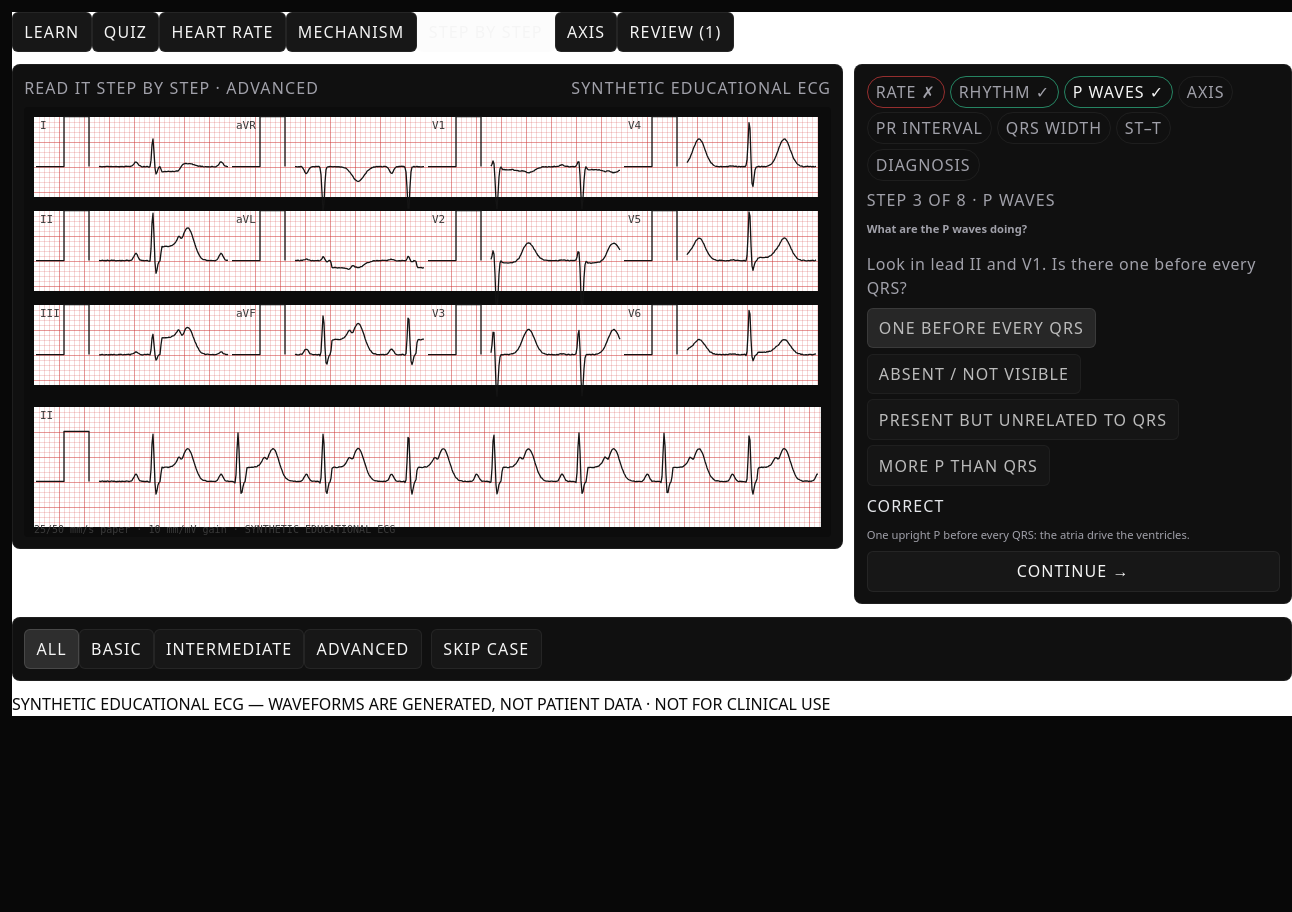
ECG Lab interface › step by step mode walks through the findings before the diagnosis
This screenshot has width=1292, height=912.
Earlier steps of the test are not shown.
Later steps or results of the test are not shown.
Expected: the text "CORRECT" is shown, x1=867 y1=495 x2=945 y2=517
Click the button "CONTINUE →". click: click(1073, 571)
box: x1=867 y1=551 x2=1280 y2=592
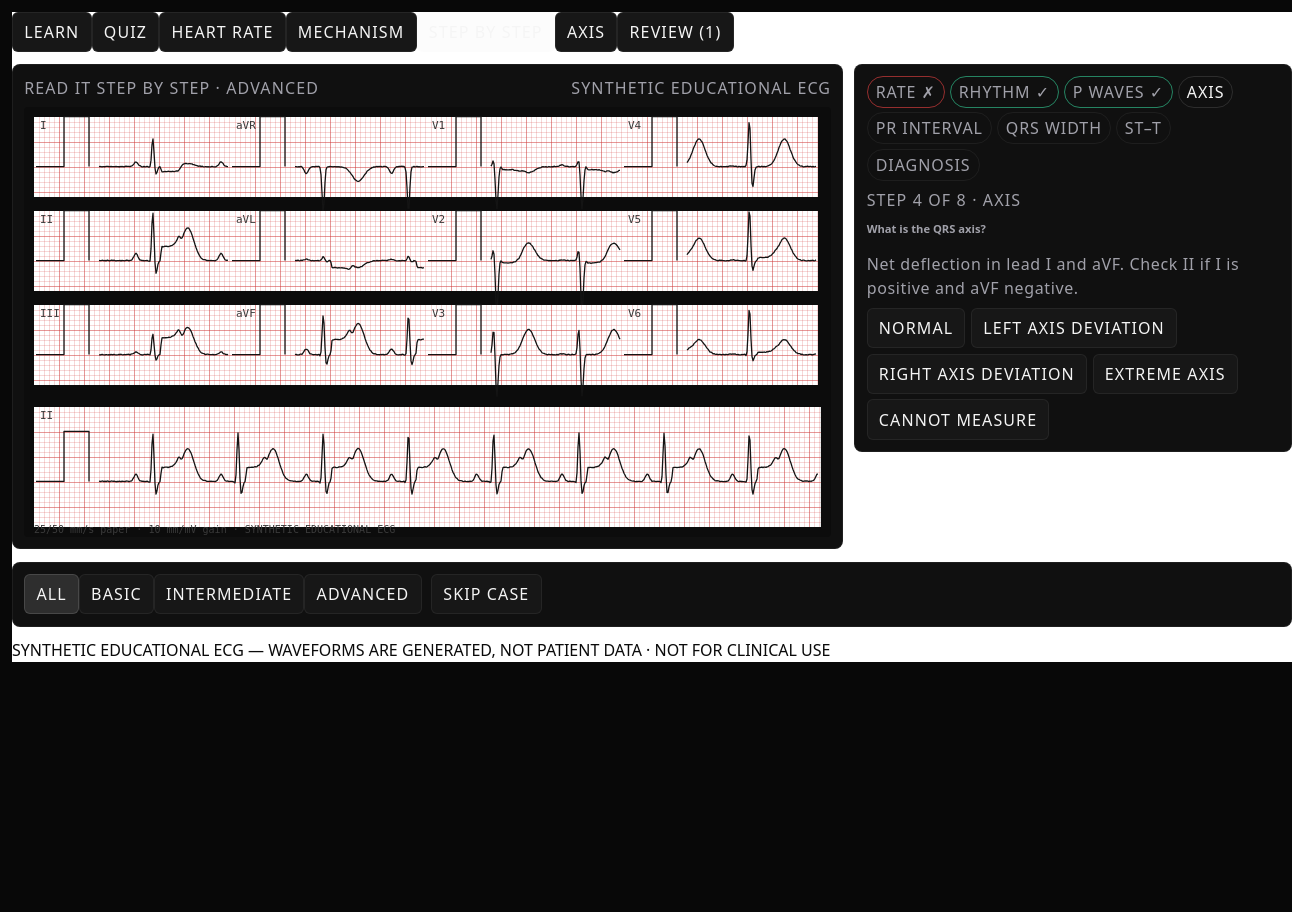
Click the button "Normal". click: click(916, 328)
box: x1=867 y1=308 x2=966 y2=348
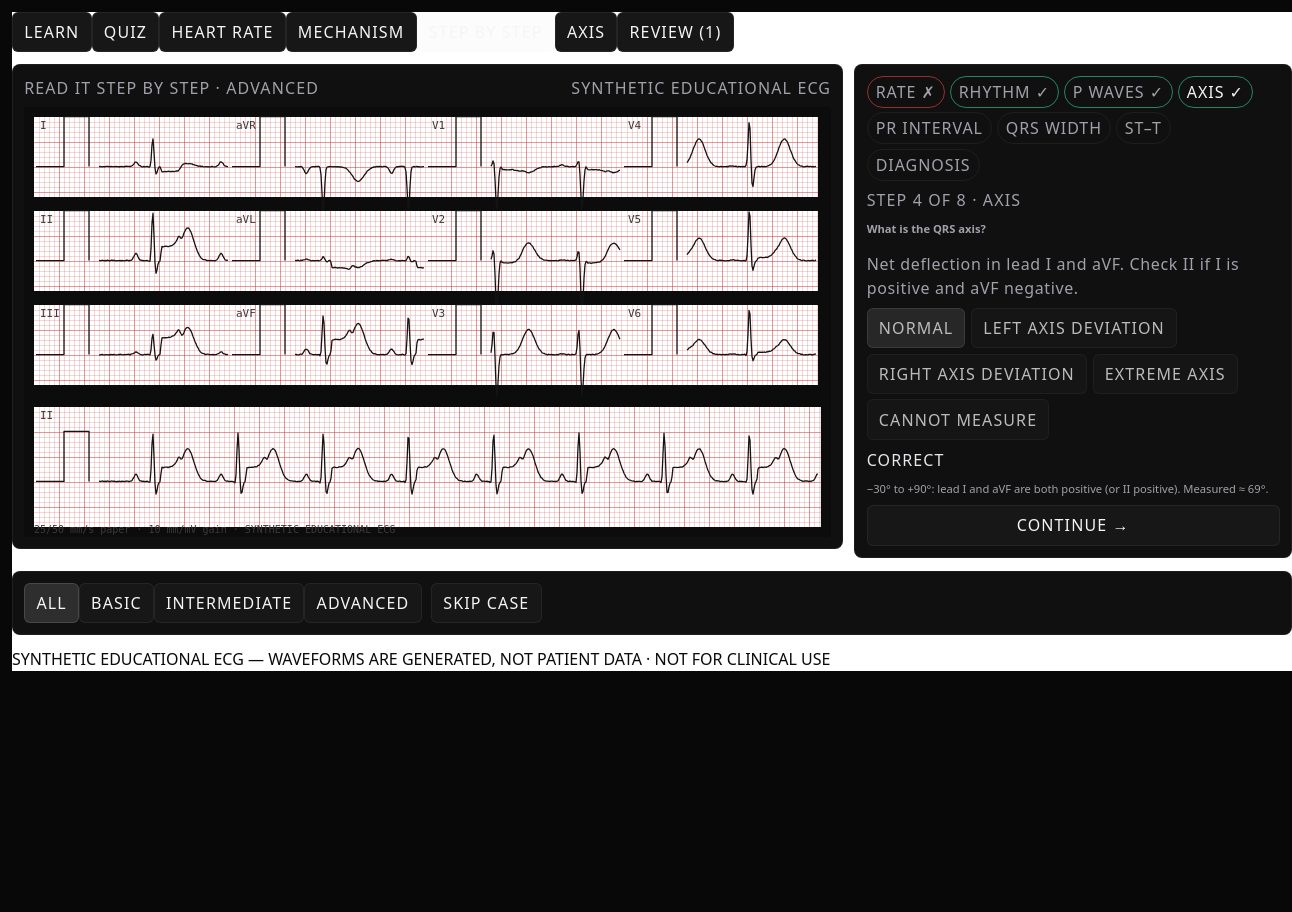
Now the text "CORRECT" is shown, box x1=867 y1=449 x2=945 y2=471
Click the button "CONTINUE →". click: click(1073, 525)
box: x1=867 y1=505 x2=1280 y2=546
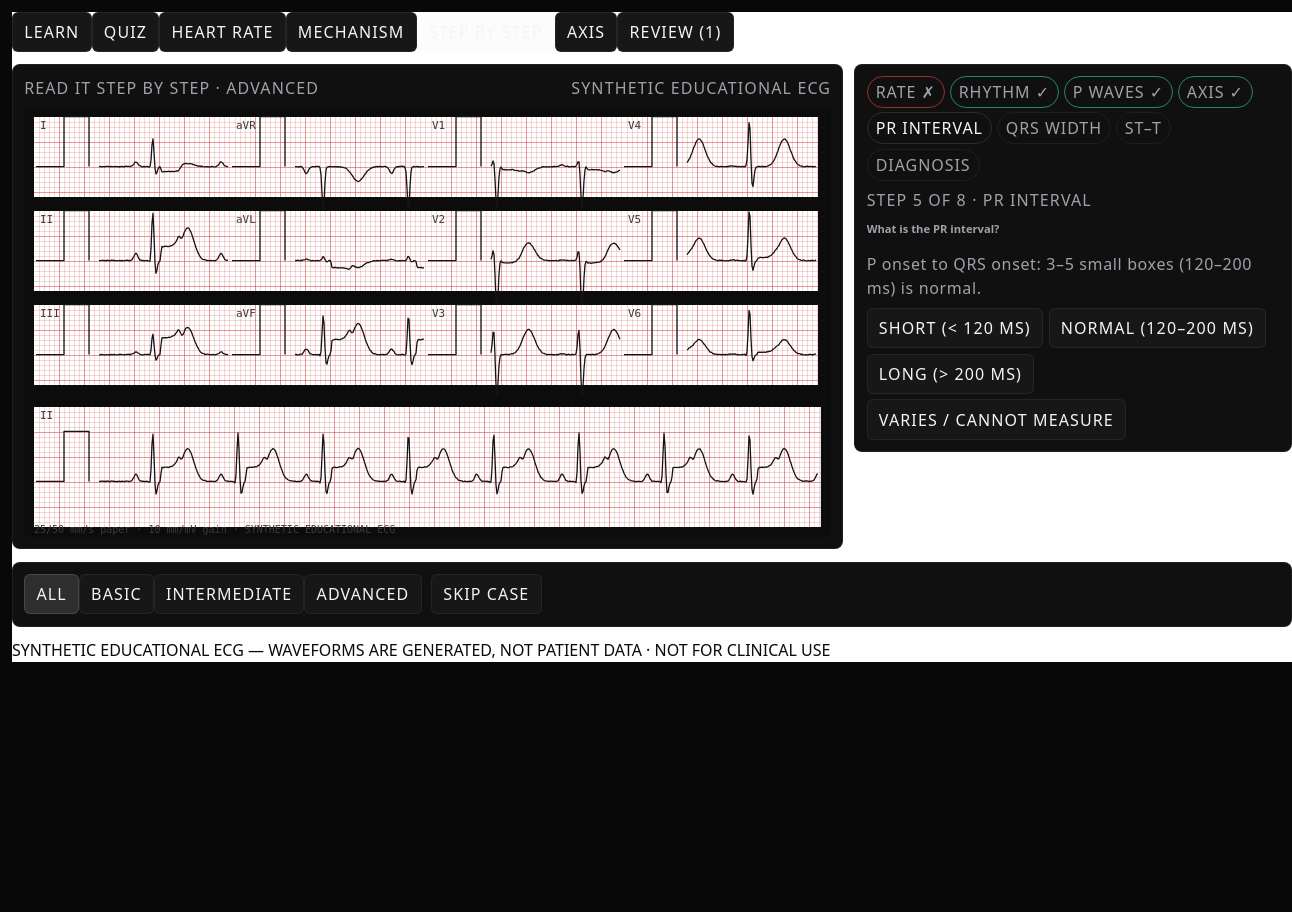
Click the button "Short (< 120 ms)". click: click(955, 328)
box: x1=867 y1=308 x2=1043 y2=348
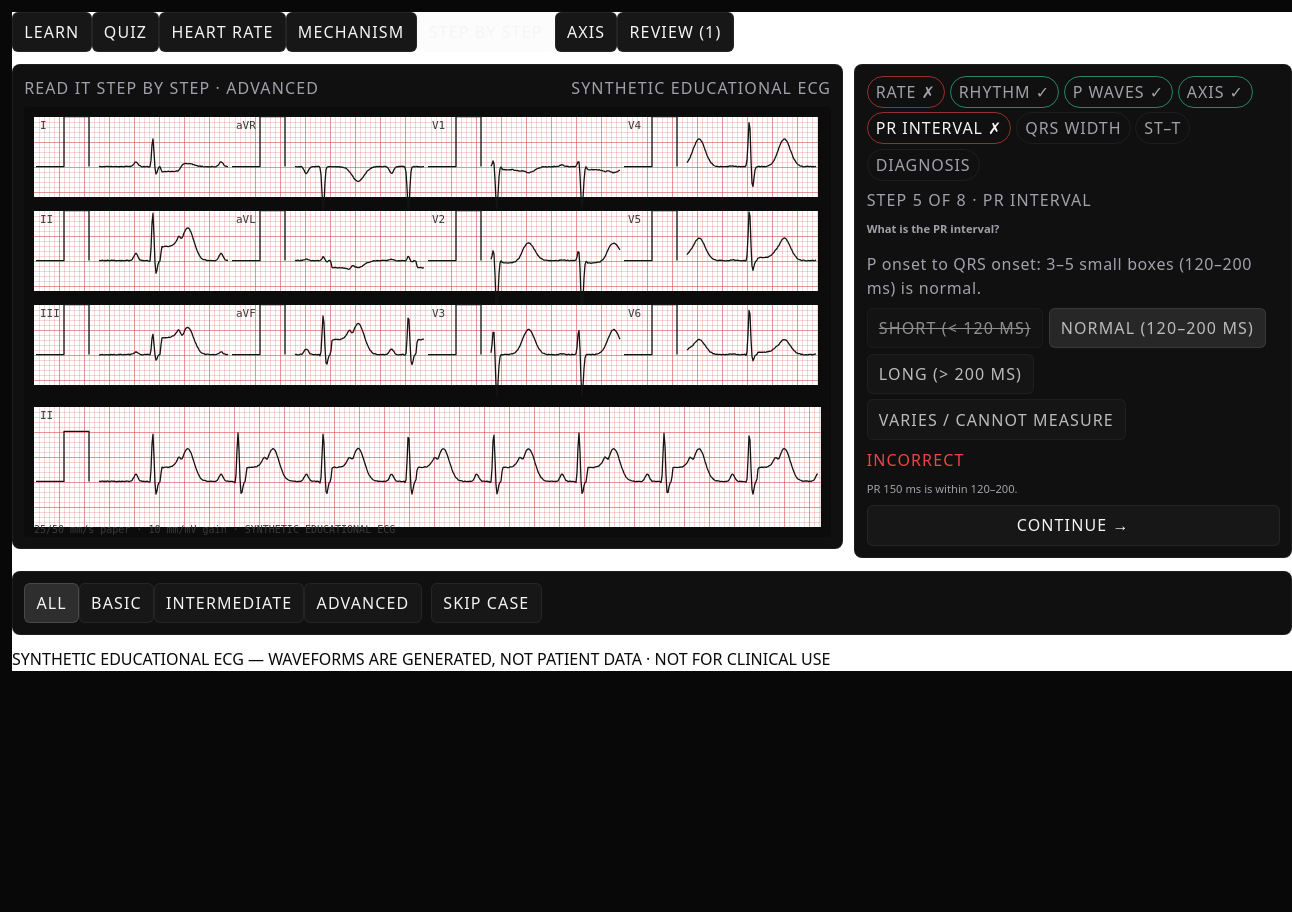
Now the text "INCORRECT" is shown, box x1=867 y1=449 x2=964 y2=471
Click the button "CONTINUE →". click: click(1073, 525)
box: x1=867 y1=505 x2=1280 y2=546
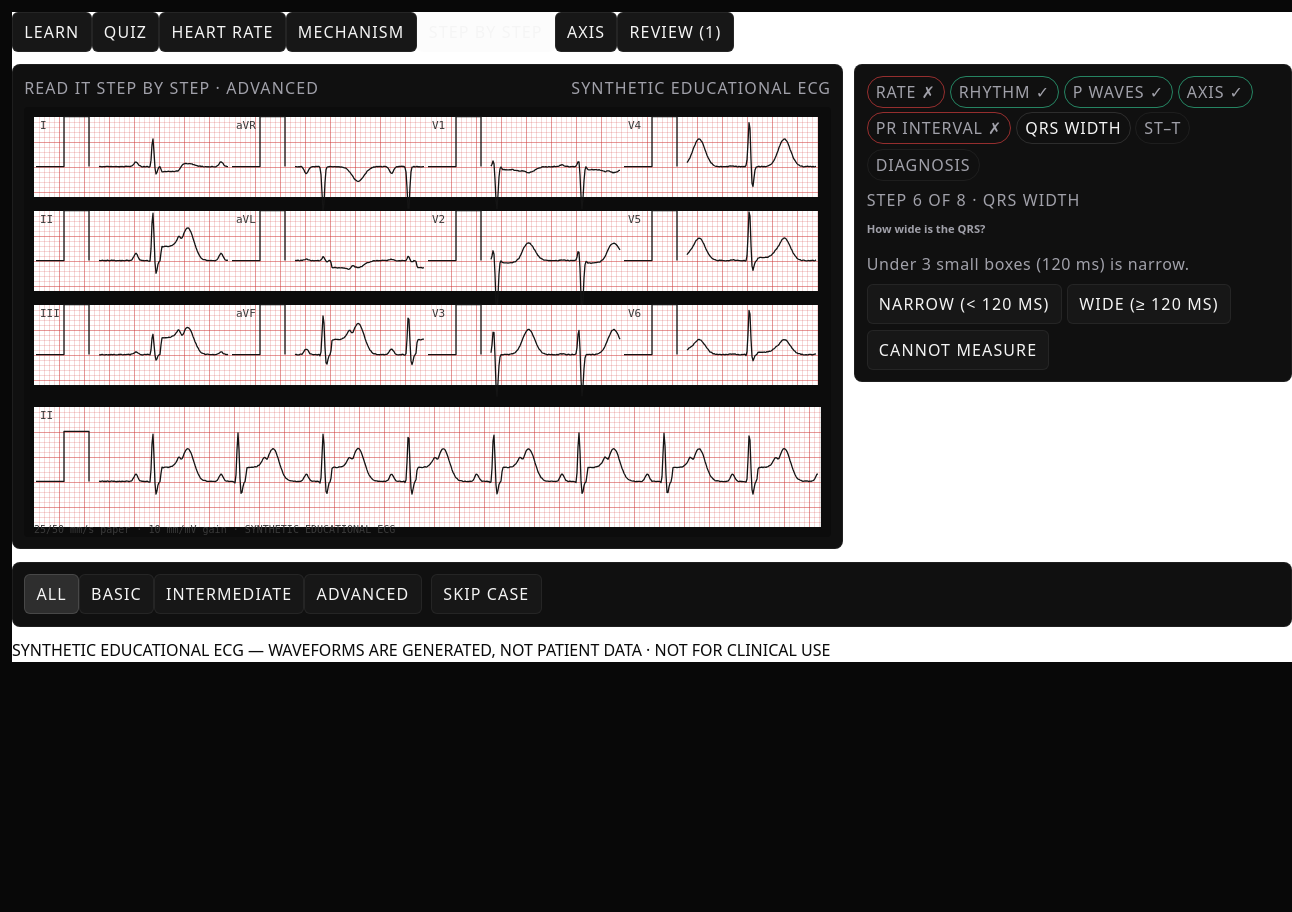
Click the button "Narrow (< 120 ms)". click: click(964, 304)
box: x1=867 y1=284 x2=1062 y2=324
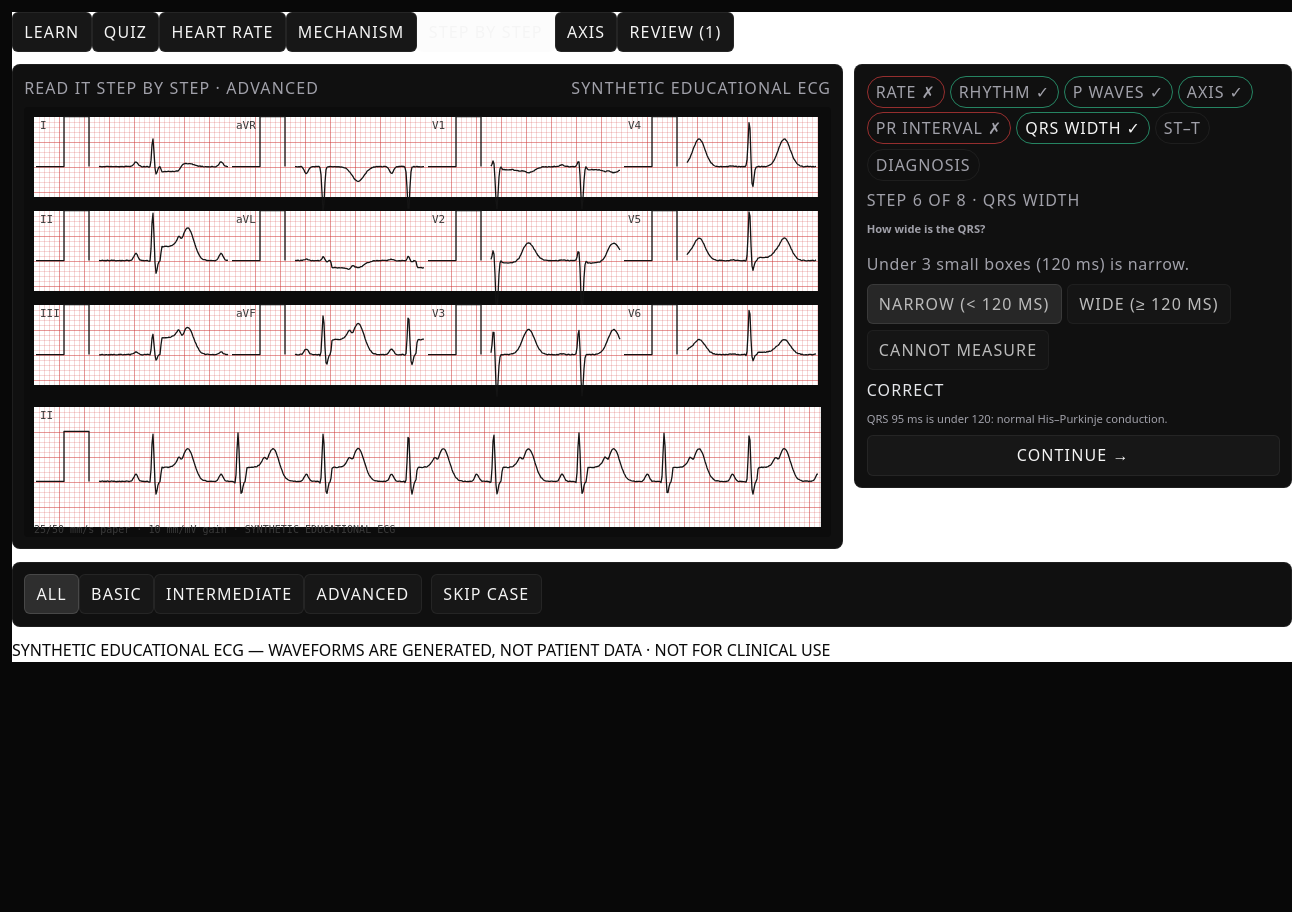
Now the text "CORRECT" is shown, box x1=867 y1=379 x2=945 y2=401
